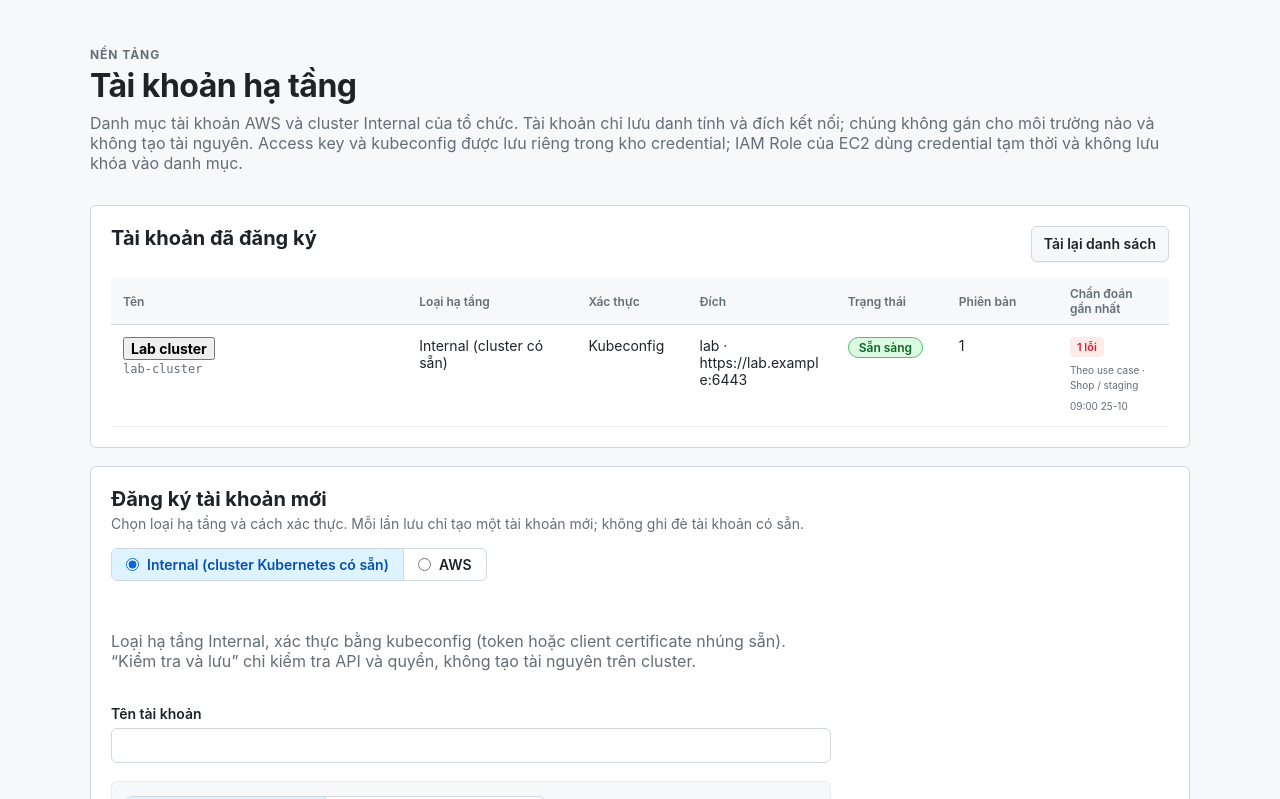
Test: Infrastructure Accounts with diagnostics › shows connection status apart from the latest diagnostic, scoped and timestamped, and never rewrites the connection
Expected: the text "Sẵn sàng" is shown, [848, 337, 923, 358]
Click the button with aria-label "Mở chẩn đoán gần nhất": (1113, 376) [1070, 337, 1157, 414]
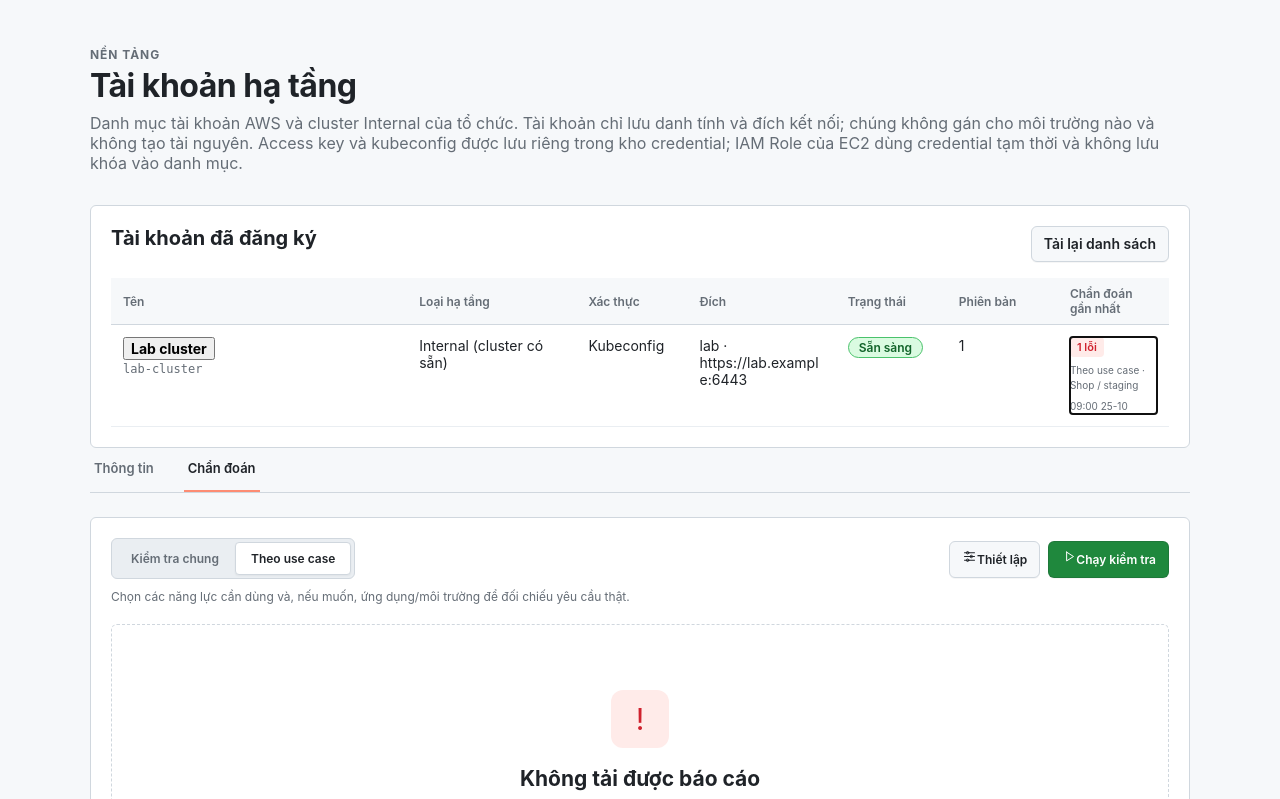
Expected: the navigation bar named "Lab cluster" is shown, [90, 448, 1190, 493]
Click the button "Thông tin": (124, 470) [90, 448, 158, 492]
(page scrolled)
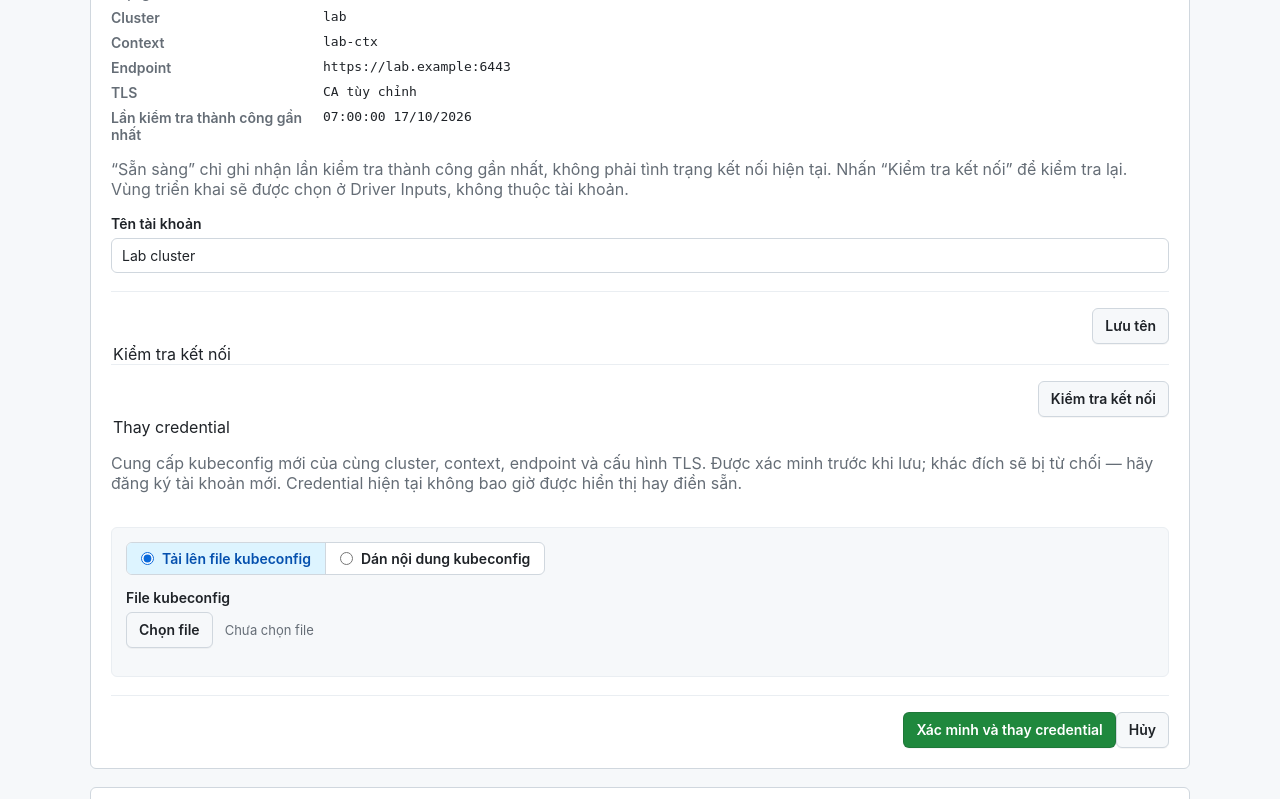
Expected: the button "Kiểm tra kết nối" is shown, [1038, 381, 1169, 417]
